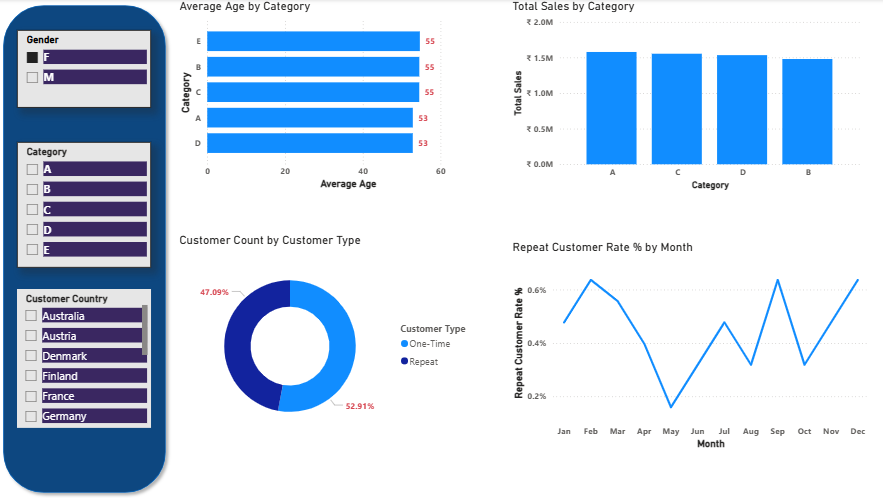

This screenshot's page, from the dashboard's own definition file:
{"tool":"powerbi","page":{"name":"Customers","canvas":[1280,720],"ordinal":4},"visuals":[{"type":"clusteredBarChart","fields":{"Y":["Measures_List.Average Age"],"Category":["Customers.Category"]},"box":[257.8,0,463.7,279.4],"z":0},{"type":"clusteredColumnChart","fields":{"Category":["Customers.Category"],"Y":["Measures_List.Total Sales"]},"box":[737.1,0,511.4,280],"z":1000},{"type":"donutChart","fields":{"Category":["Customer Type.Customer Type"],"Y":["Measures_List.Customer Count"]},"box":[257.8,337,439.2,306.7],"z":2000},{"type":"lineChart","title":"Repeat Customer Rate % by Month","fields":{"Category":["Orders.Month Name"],"Y":["Measures_List.Repeat Customer Rate %"]},"box":[737.3,347,522.7,306.7],"z":3000},{"type":"shape","box":[0,0,252,720],"z":4000},{"type":"slicer","fields":{"Values":["Customers.Gender"]},"box":[29.2,44.7,192.7,111.8],"z":5000},{"type":"slicer","fields":{"Values":["Customers.Category"]},"box":[29.2,206.5,192.7,180.6],"z":6000},{"type":"slicer","fields":{"Values":["Customers.Customer Country"]},"box":[29.2,418.1,192.7,199.6],"z":7000}]}

Visuals, with their boxes in screenshot pixels (x1, y1, x2, y2), scaled from the page's 1280x720 canvas onto the 883x498 screenshot:
clusteredBarChart - Measures_List.Average Age x Customers.Category: (178, 0, 498, 193)
clusteredColumnChart - Customers.Category x Measures_List.Total Sales: (508, 0, 861, 194)
donutChart - Customer Type.Customer Type x Measures_List.Customer Count: (178, 233, 481, 445)
"Repeat Customer Rate % by Month" lineChart: (509, 240, 869, 452)
shape: (0, 0, 174, 497)
slicer - Customers.Gender: (20, 31, 153, 108)
slicer - Customers.Category: (20, 143, 153, 268)
slicer - Customers.Customer Country: (20, 289, 153, 427)
